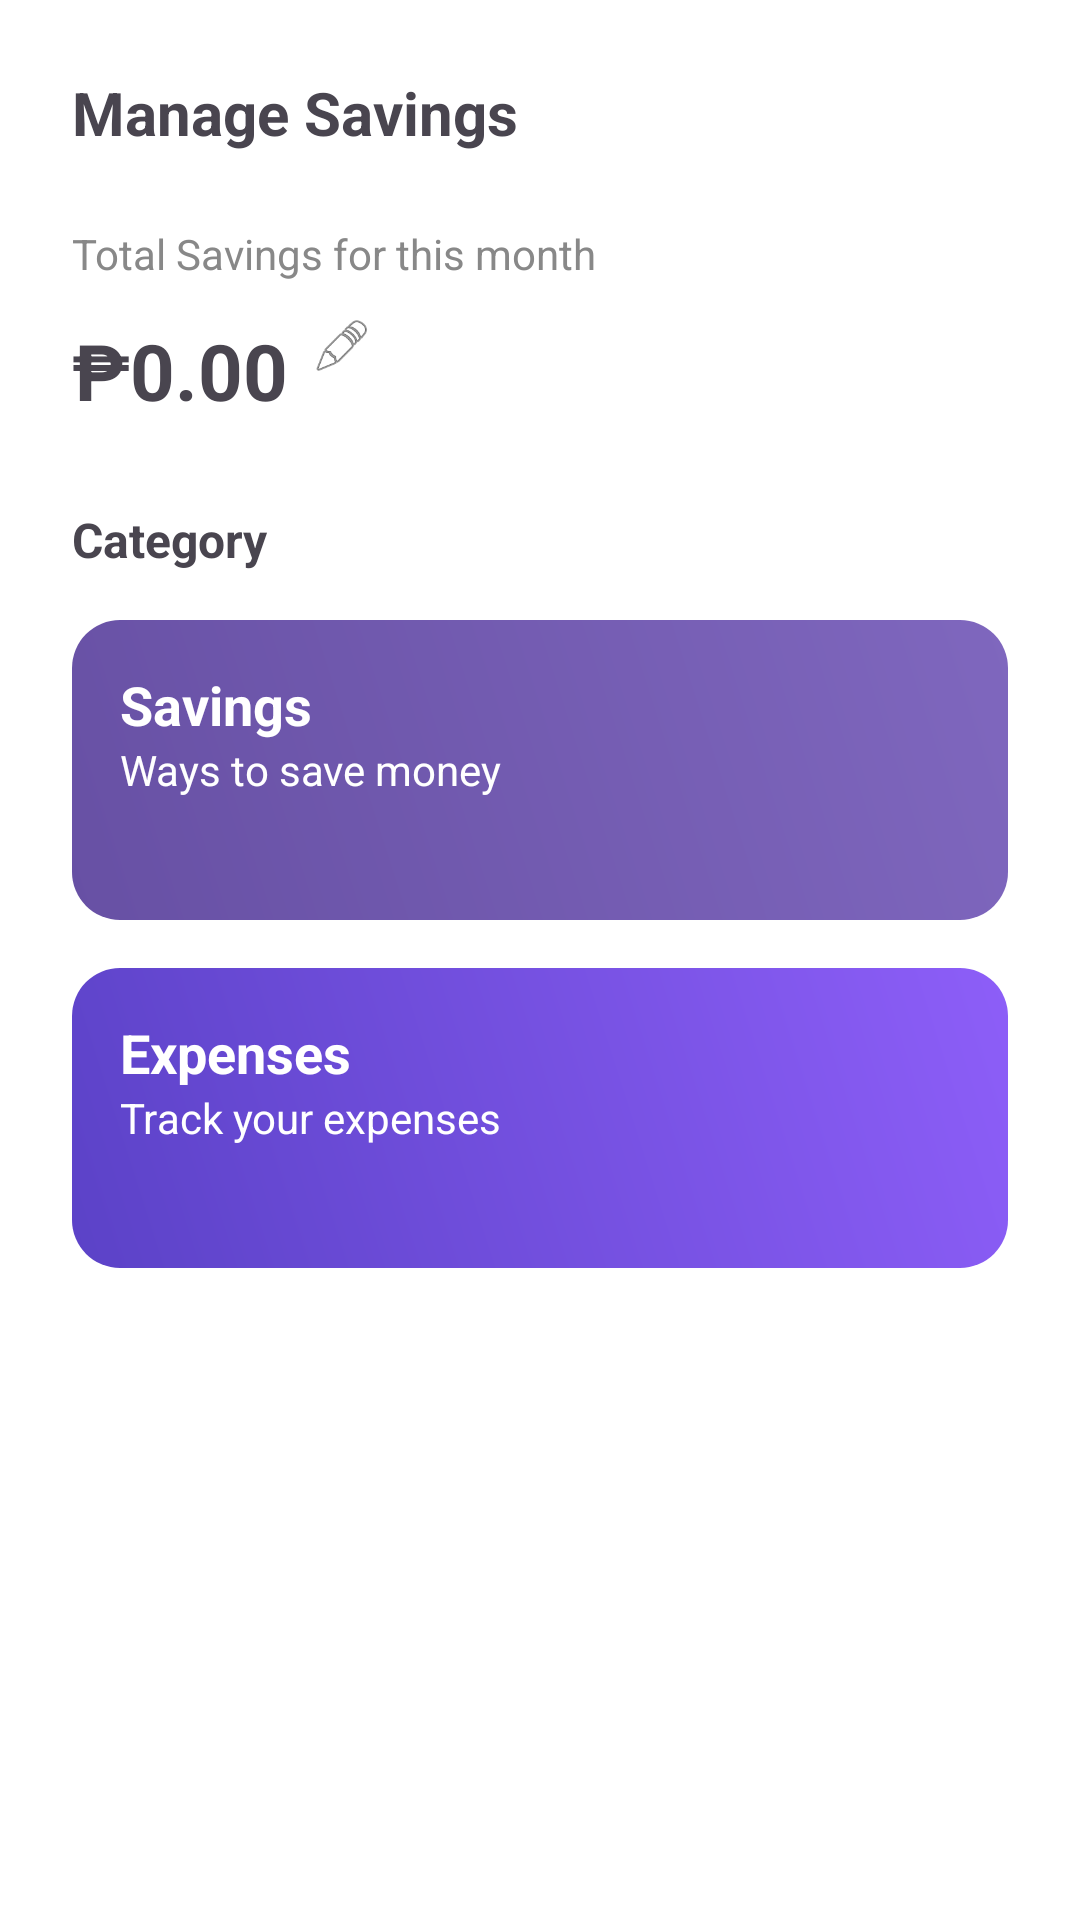

Named icons in this screenshot (1080 × 1920) and their centers, [x,y]:
Edit Savings: [341,345]
